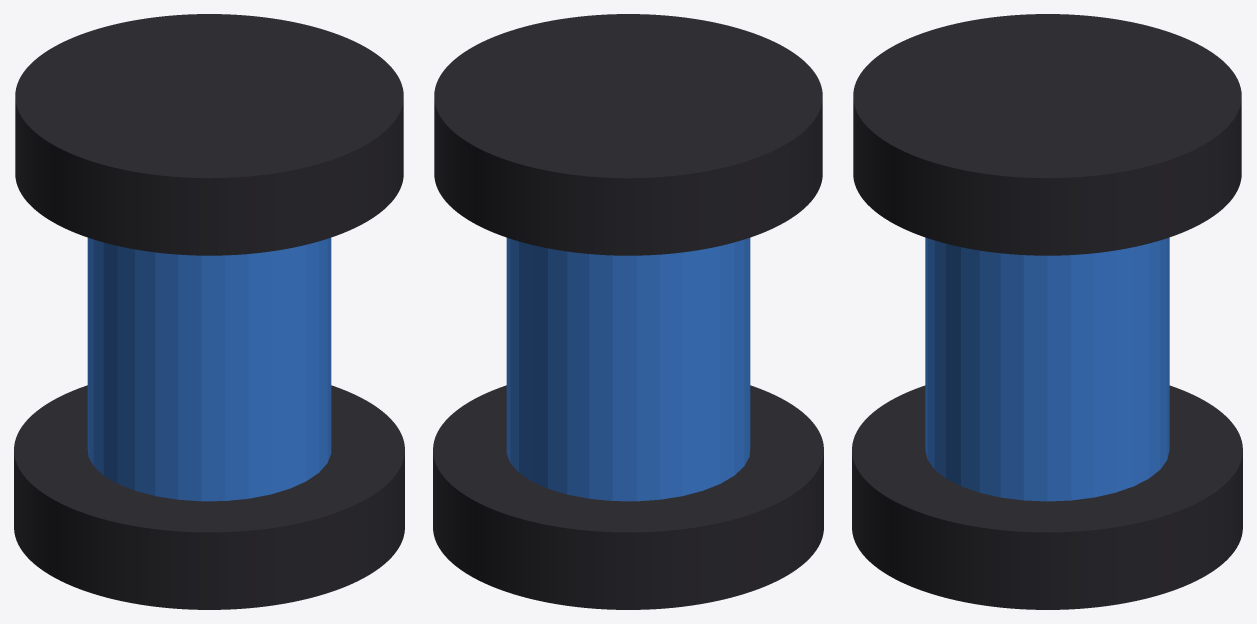
File: PowerCell.fbx
The picture shows the model from 3 angles, left to right: view 1: azimuth 30°, elevation 25°; view 2: azimuth 150°, elevation 25°; view 3: azimuth 270°, elevation 25°; orthographic projection.
Parts seen in each view (by area): view 1: Cylinder, Cylinder.001, Cylinder.002; view 2: Cylinder, Cylinder.001, Cylinder.002; view 3: Cylinder, Cylinder.001, Cylinder.002.
Boxes of the visible parts, box(x1,y1,x2,y2) form: Cylinder: box(15, 14, 403, 255); Cylinder.001: box(87, 237, 331, 501); Cylinder.002: box(14, 385, 404, 609); Cylinder: box(434, 14, 822, 255); Cylinder.001: box(506, 238, 750, 501); Cylinder.002: box(433, 385, 823, 609); Cylinder: box(853, 14, 1241, 255); Cylinder.001: box(925, 237, 1169, 501); Cylinder.002: box(852, 385, 1242, 609).
Size of the model in its own units: 320 by 389 by 320.
